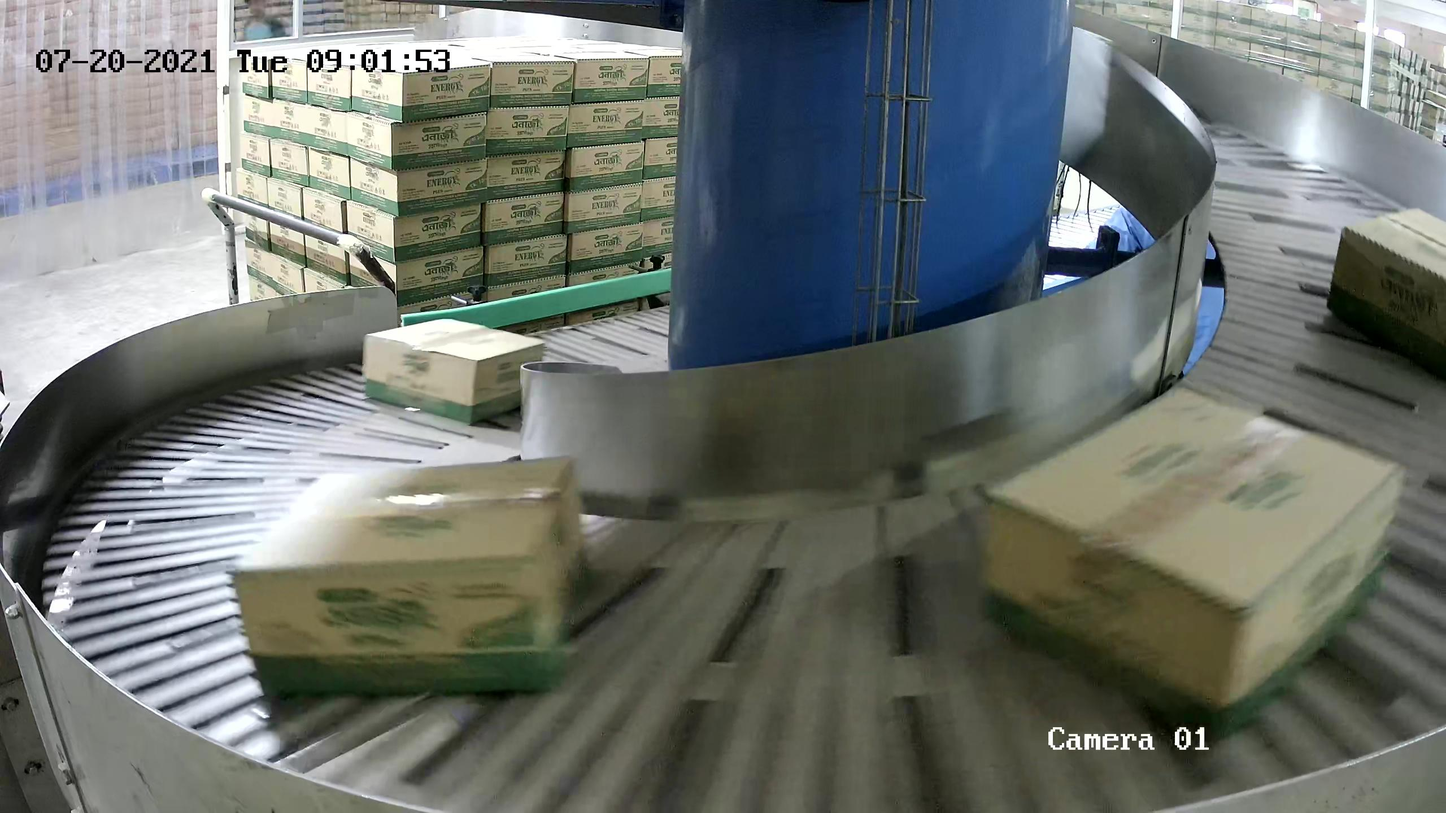Box: (976, 380, 1409, 745), (225, 452, 593, 700), (1321, 199, 1446, 388), (364, 316, 548, 433)
